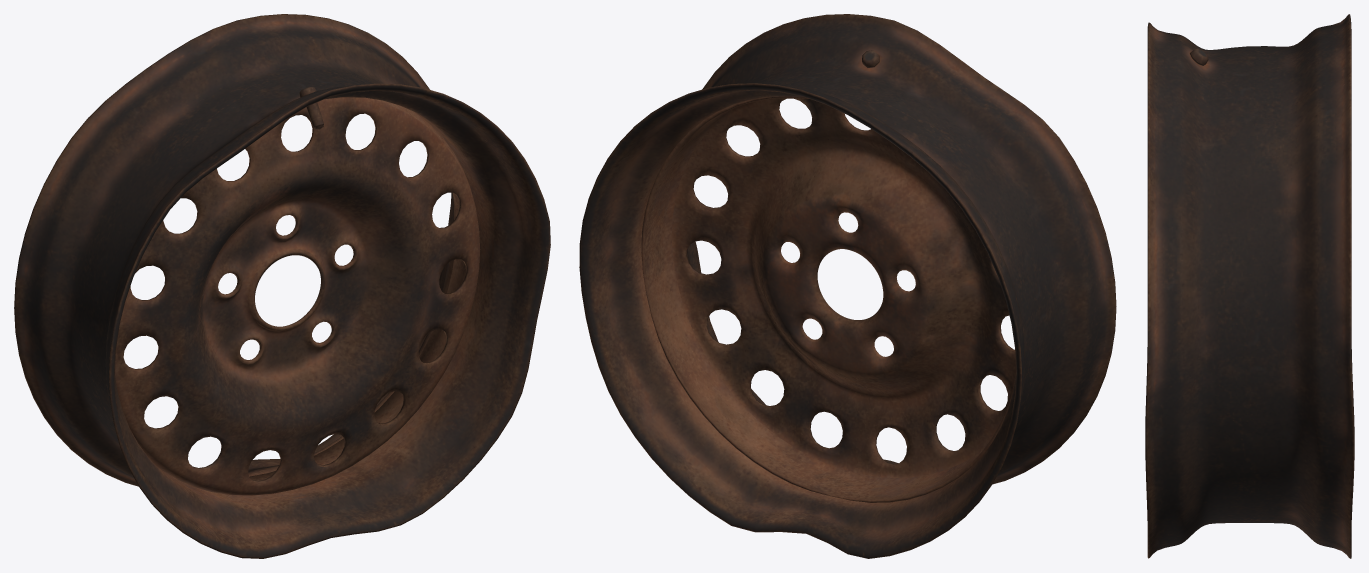
Rendered from rusted_wheel_rim_01_1k.fbx.
3 renders of one model, left to right at view 1: azimuth 30°, elevation 25°; view 2: azimuth 150°, elevation 25°; view 3: azimuth 270°, elevation 25°, orthographic. The views are drawn at different scales.
Parts seen in each view (by area): view 1: rusted_wheel_rim_01; view 2: rusted_wheel_rim_01; view 3: rusted_wheel_rim_01.
Part boxes in pixels (box(x1,y1,x2,y2)): rusted_wheel_rim_01: box(14, 14, 550, 558); rusted_wheel_rim_01: box(579, 14, 1116, 558); rusted_wheel_rim_01: box(1145, 14, 1354, 558).
Bounding box in the file's own units: 40.29 × 39.55 × 15.41.
